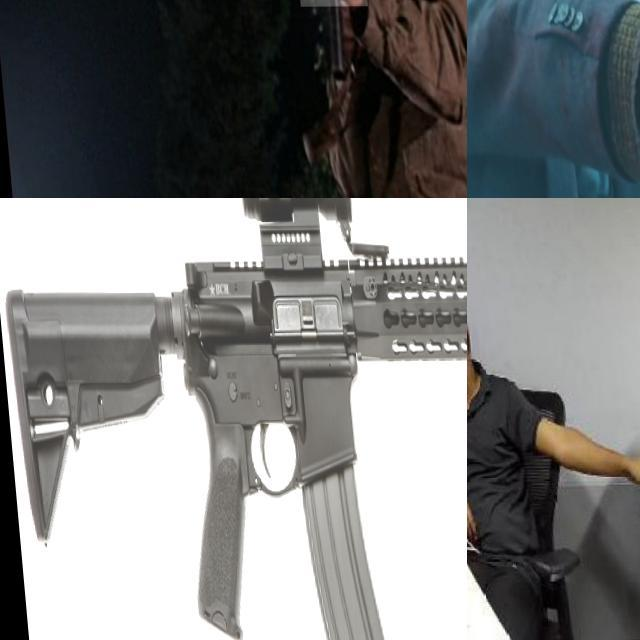-: (633, 485, 640, 600)
gun-knife-thesis - v11 Yolov5 augmented: (0, 198, 467, 640), (277, 0, 360, 119)
